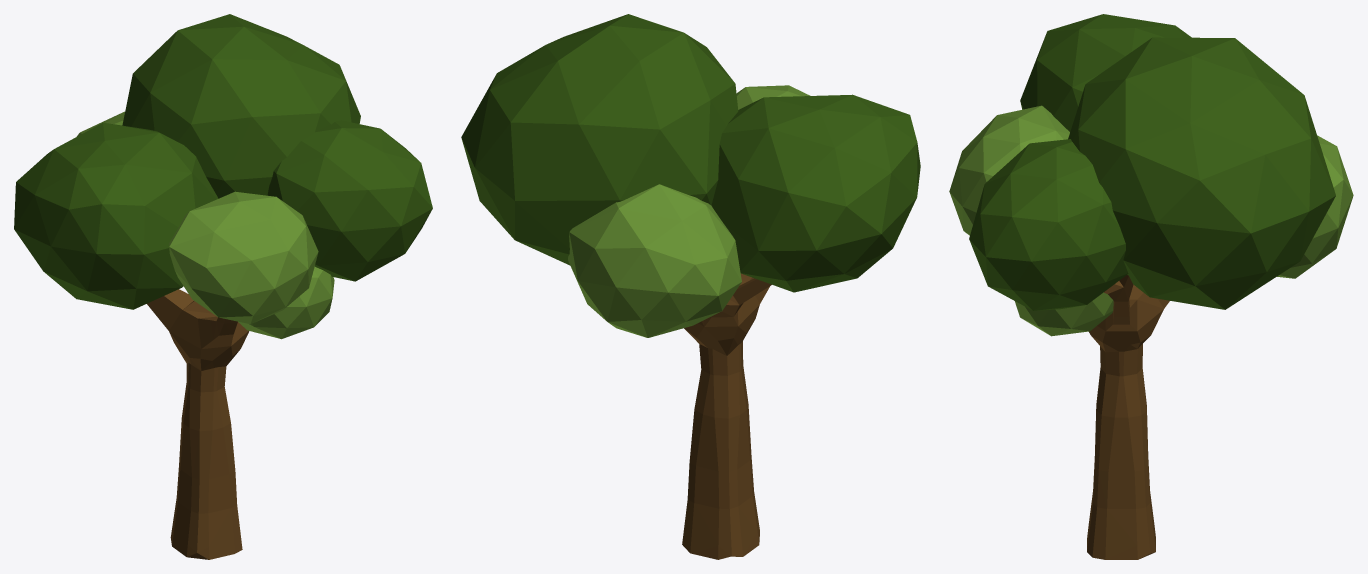
File: SM_Tree_02.fbx
3 renders of one model, left to right at view 1: azimuth 30°, elevation 25°; view 2: azimuth 150°, elevation 25°; view 3: azimuth 270°, elevation 25°, orthographic. The views are drawn at different scales.
Parts seen in each view (by area): view 1: Tree_02; view 2: Tree_02; view 3: Tree_02.
Part boxes in pixels (x1=…): Tree_02: x1=14, y1=14, x2=432, y2=559; Tree_02: x1=461, y1=14, x2=920, y2=559; Tree_02: x1=949, y1=14, x2=1353, y2=559.
Size of the model in its own units: 3.48 by 4.56 by 3.17.
